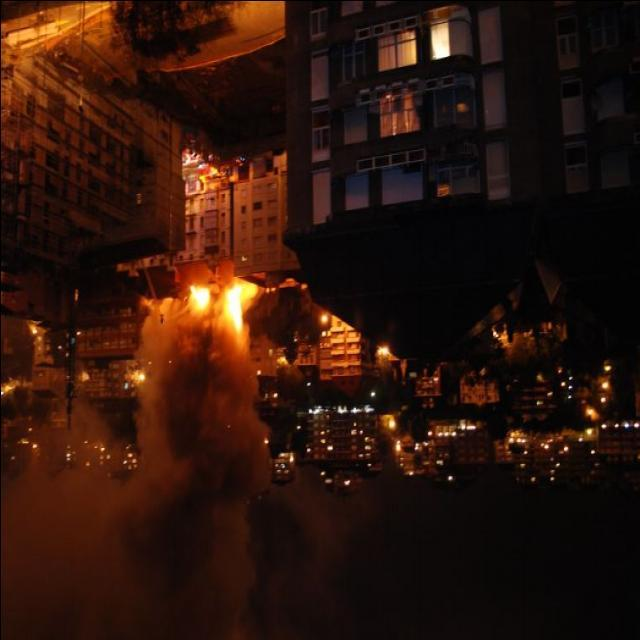Fire: (184, 280, 256, 334)
